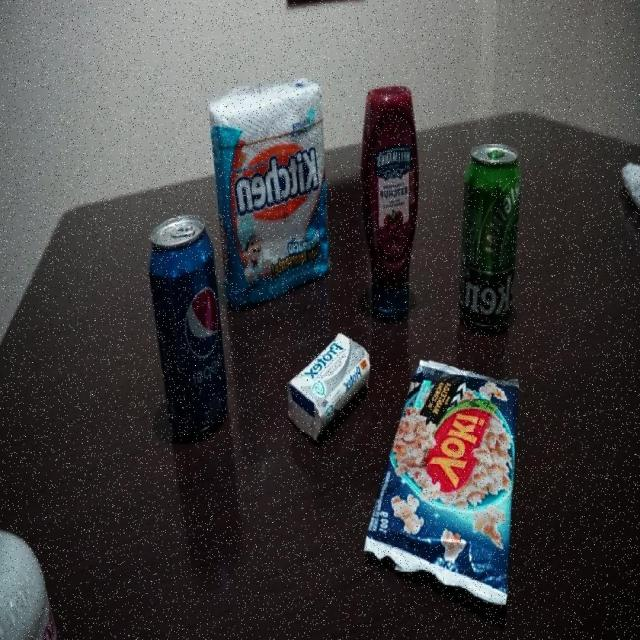BeerCan: (458, 142, 520, 337)
CoconutMilk: (0, 507, 65, 640)
Ketchup: (358, 81, 420, 330)
Napkin: (208, 76, 332, 310)
Popcorn: (362, 359, 522, 609)
Soap: (284, 332, 370, 449)
SodaCan: (147, 212, 231, 443)
